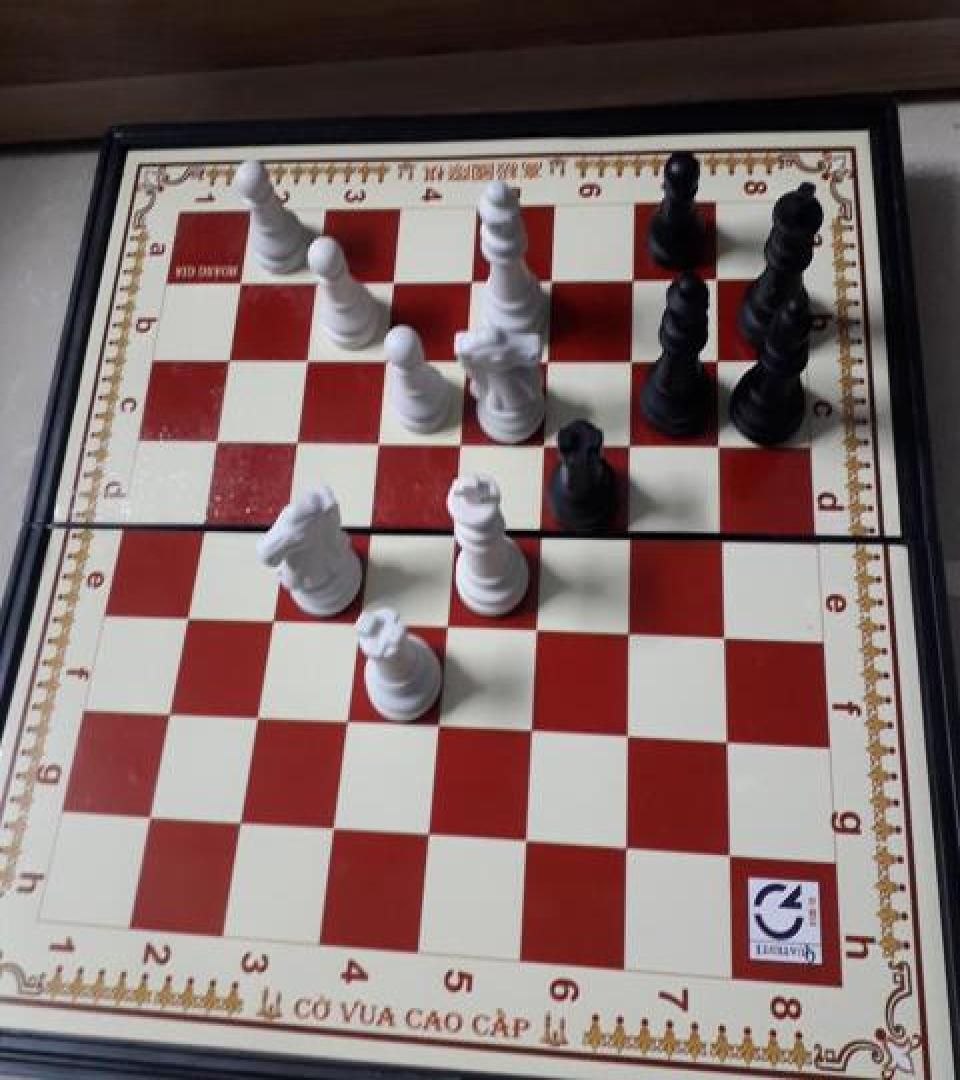xcorner: (429, 606, 463, 645), (703, 261, 737, 299), (619, 262, 653, 300), (537, 262, 571, 300), (456, 264, 490, 302), (377, 264, 411, 302), (300, 264, 334, 302), (224, 264, 258, 302), (704, 341, 738, 379), (618, 341, 652, 379), (533, 341, 567, 379), (450, 341, 484, 379), (369, 341, 403, 379), (289, 340, 323, 378), (211, 340, 245, 378), (706, 426, 740, 464), (617, 426, 651, 464), (529, 424, 563, 462), (443, 423, 477, 461), (360, 422, 394, 460), (277, 421, 311, 459), (197, 420, 231, 458), (708, 518, 742, 556), (615, 516, 649, 554), (525, 514, 559, 552), (436, 512, 470, 550), (350, 510, 384, 548), (182, 505, 216, 543), (710, 616, 744, 654), (614, 612, 648, 650), (520, 609, 554, 647), (339, 603, 373, 641), (252, 600, 286, 638), (166, 596, 200, 634), (712, 721, 746, 759), (612, 717, 646, 755), (515, 711, 549, 749), (421, 706, 455, 744), (328, 702, 362, 740), (238, 699, 272, 737), (150, 694, 184, 732), (714, 835, 748, 873), (611, 828, 645, 866), (510, 822, 544, 860), (412, 816, 446, 854), (316, 810, 350, 848), (223, 804, 257, 842), (132, 798, 166, 836), (265, 508, 299, 545)
